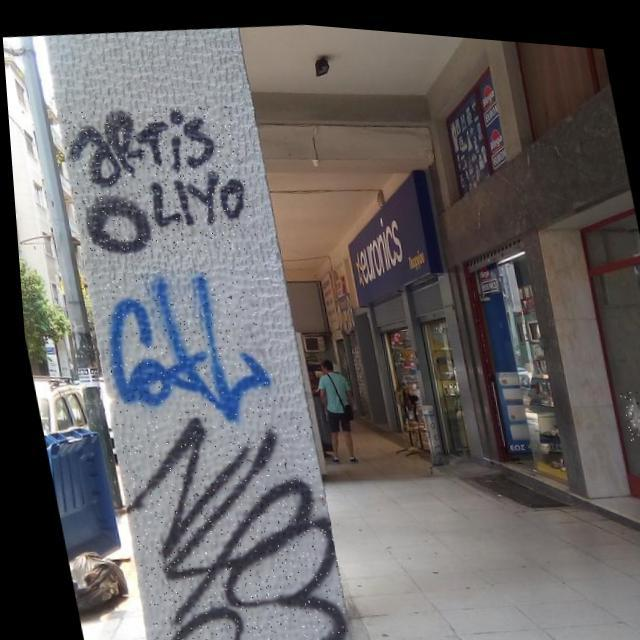-: (104, 395, 348, 640), (55, 90, 256, 266), (86, 255, 276, 436), (613, 374, 640, 432)
